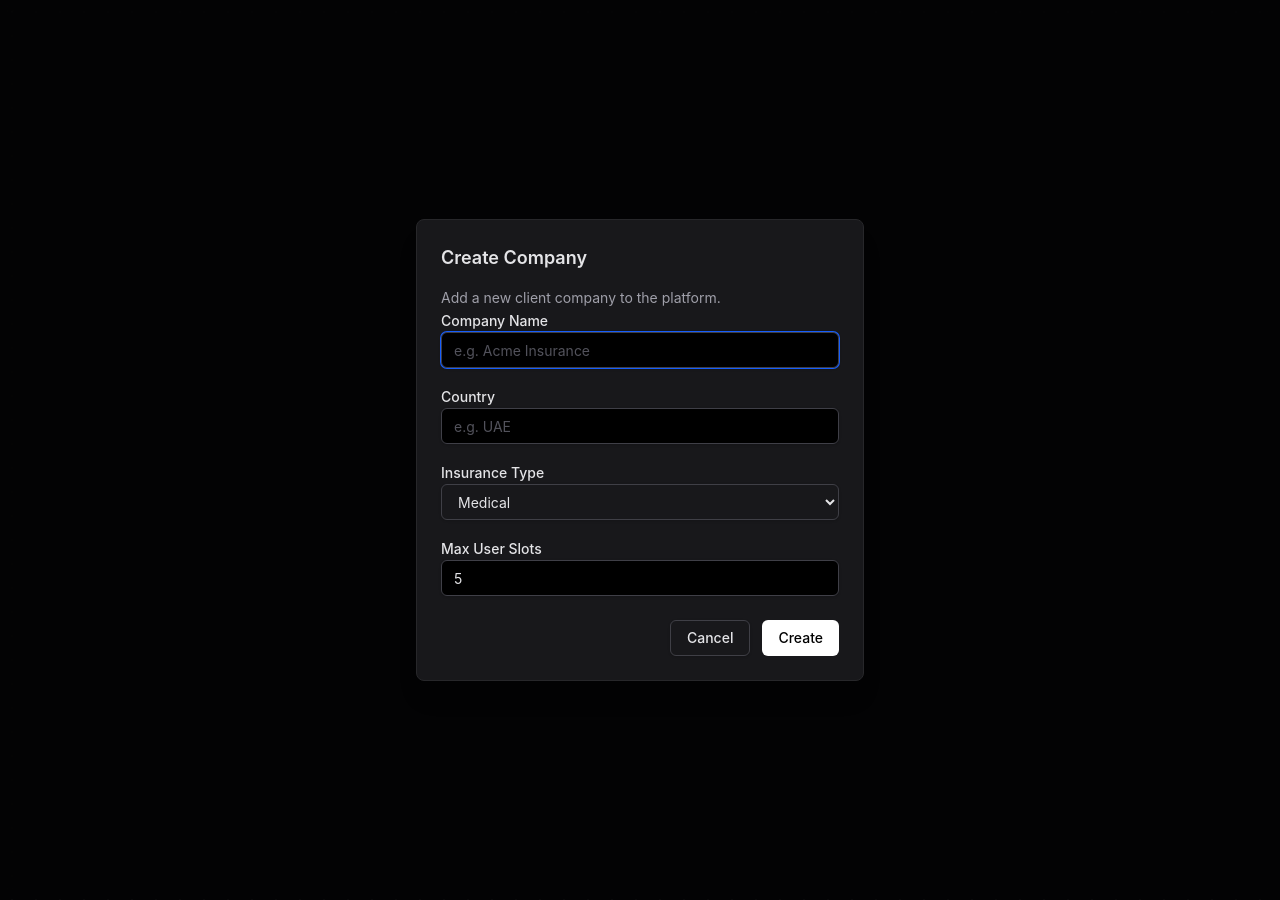
Test: M3-3.E.2 - Admin regression scenarios › Admin dialog lifecycle (CreateCompanyDialog) › shows validation error when submitted with empty name
Click the button "Create": (801, 638) 762,620 -> 839,656
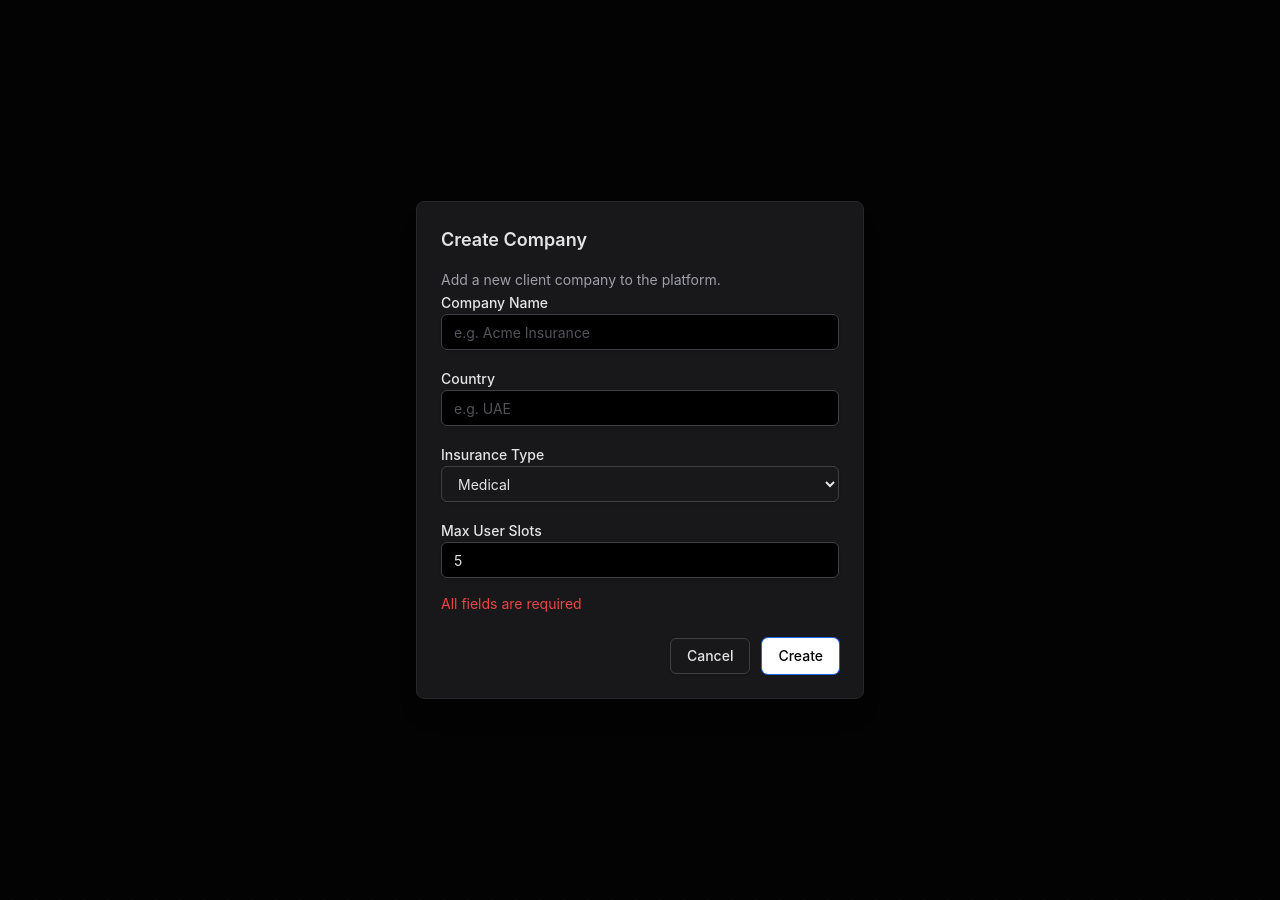
expect the text "All fields are required" is shown: met, box 441,595 -> 582,612
